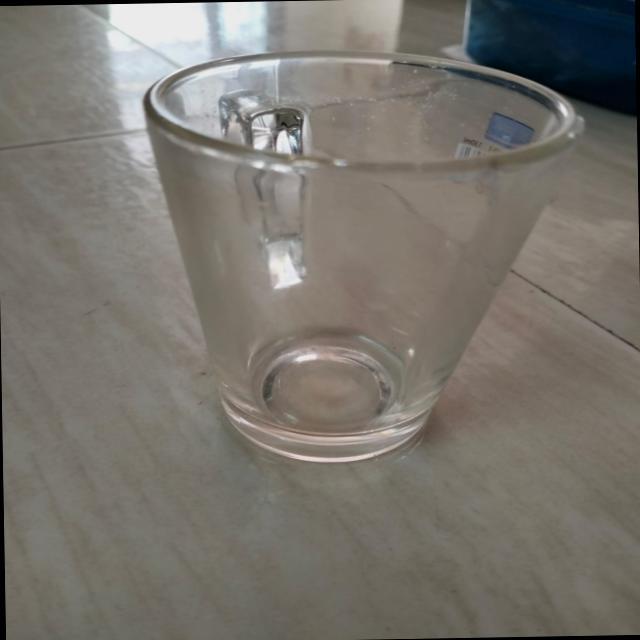glass-VX4N: (142, 49, 590, 466)
